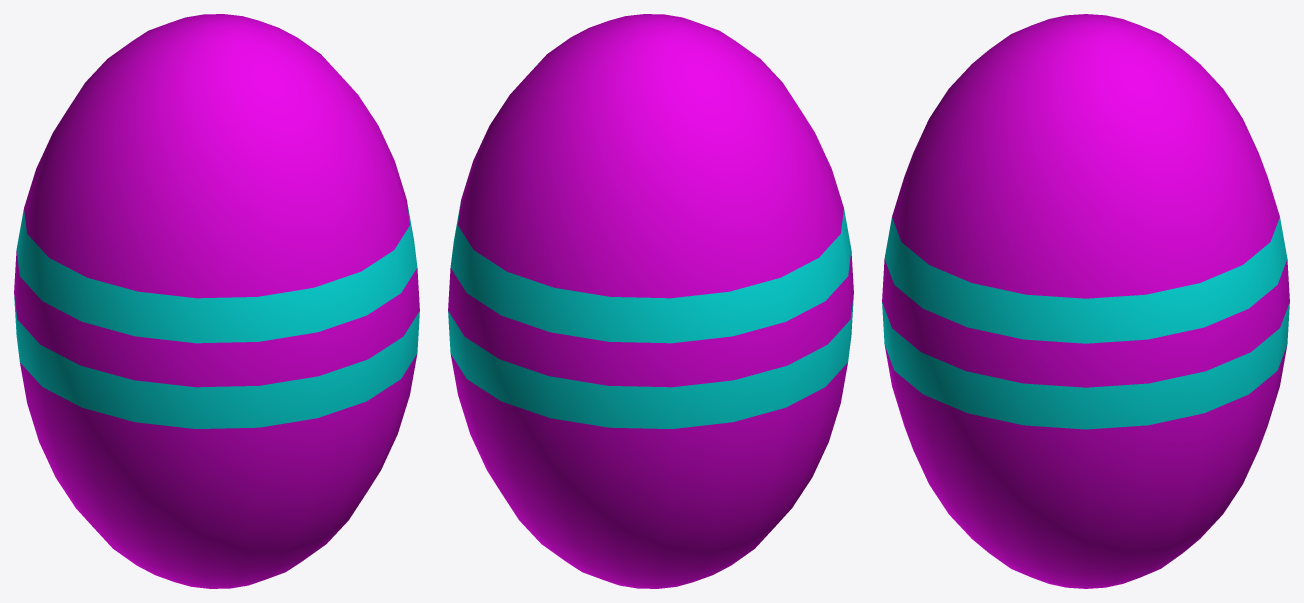
Rendered from EasterEgg.fbx.
3 views of the same model, side by side, from view 1: azimuth 30°, elevation 25°; view 2: azimuth 150°, elevation 25°; view 3: azimuth 270°, elevation 25° (orthographic).
Parts seen in each view (by area): view 1: pSphere1; view 2: pSphere1; view 3: pSphere1.
Boxes of the visible parts, <box> form: pSphere1: <box>14,14,419,588</box>; pSphere1: <box>448,14,853,588</box>; pSphere1: <box>882,14,1289,588</box>.
Size of the model in its own units: 2.81 by 4.18 by 2.81.
